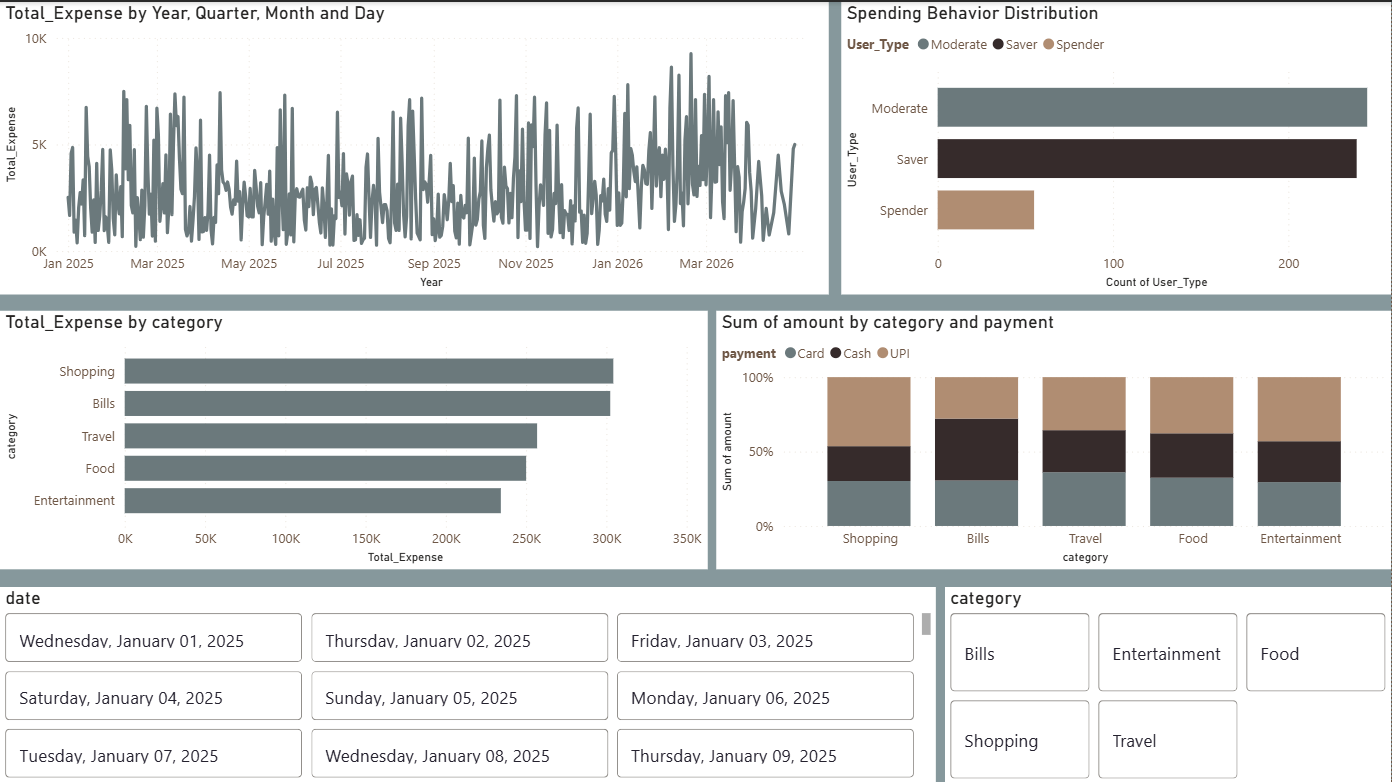

Layout of this report page (visuals, bound fields, positions):
{"tool":"powerbi","page":{"name":"Page 2","canvas":[1280,720],"ordinal":1},"visuals":[{"type":"lineChart","fields":{"Category":["expenses.date.Variation.Date Hierarchy.Year","expenses.date.Variation.Date Hierarchy.Quarter","expenses.date.Variation.Date Hierarchy.Month","expenses.date.Variation.Date Hierarchy.Day"],"Y":["expenses.Total_Expense"]},"box":[0,0,761.6,268.8],"z":0},{"type":"clusteredBarChart","fields":{"Category":["expenses.category"],"Y":["expenses.Total_Expense"]},"box":[0,283.7,650.2,237.8],"z":1000},{"type":"hundredPercentStackedColumnChart","fields":{"Category":["expenses.category"],"Y":["Sum(expenses.amount)"],"Series":["expenses.payment"]},"box":[658.2,283.7,621.4,237.8],"z":2000},{"type":"barChart","title":"Spending Behavior Distribution","fields":{"Category":["expenses.User_Type"],"Series":["expenses.User_Type"],"Y":["CountNonNull(expenses.User_Type)"]},"box":[773.1,0,506.6,268.8],"z":3000},{"type":"advancedSlicerVisual","fields":{"Values":["expenses.date"]},"box":[0,537.6,860.4,182.6],"z":4000},{"type":"advancedSlicerVisual","fields":{"Values":["expenses.category"]},"box":[868.4,537.6,411.2,182.6],"z":5000}]}

Visuals, with their boxes in screenshot pixels (x1, y1, x2, y2), scaled from the page's 1280x720 canvas onto the 1392x782 screenshot:
lineChart - expenses.date.Variation.Date Hierarchy.Year x expenses.date.Variation.Date Hierarchy.Quarter: l=0, t=0, r=828, b=292
clusteredBarChart - expenses.category x expenses.Total_Expense: l=0, t=308, r=707, b=566
hundredPercentStackedColumnChart - expenses.category x Sum(expenses.amount): l=716, t=308, r=1391, b=566
"Spending Behavior Distribution" barChart: l=841, t=0, r=1391, b=292
advancedSlicerVisual - expenses.date: l=0, t=584, r=936, b=781
advancedSlicerVisual - expenses.category: l=944, t=584, r=1391, b=781
